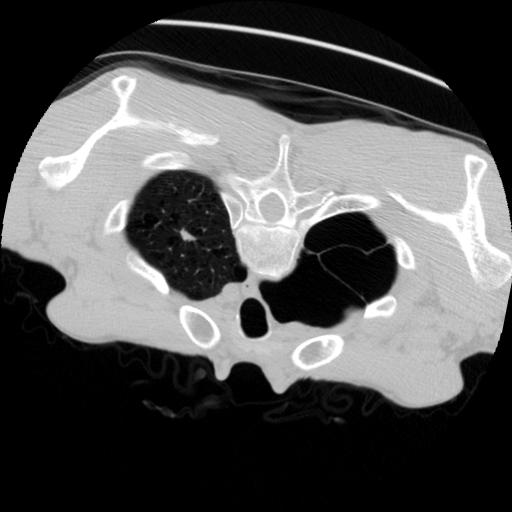nodule: (176, 226, 198, 248)
